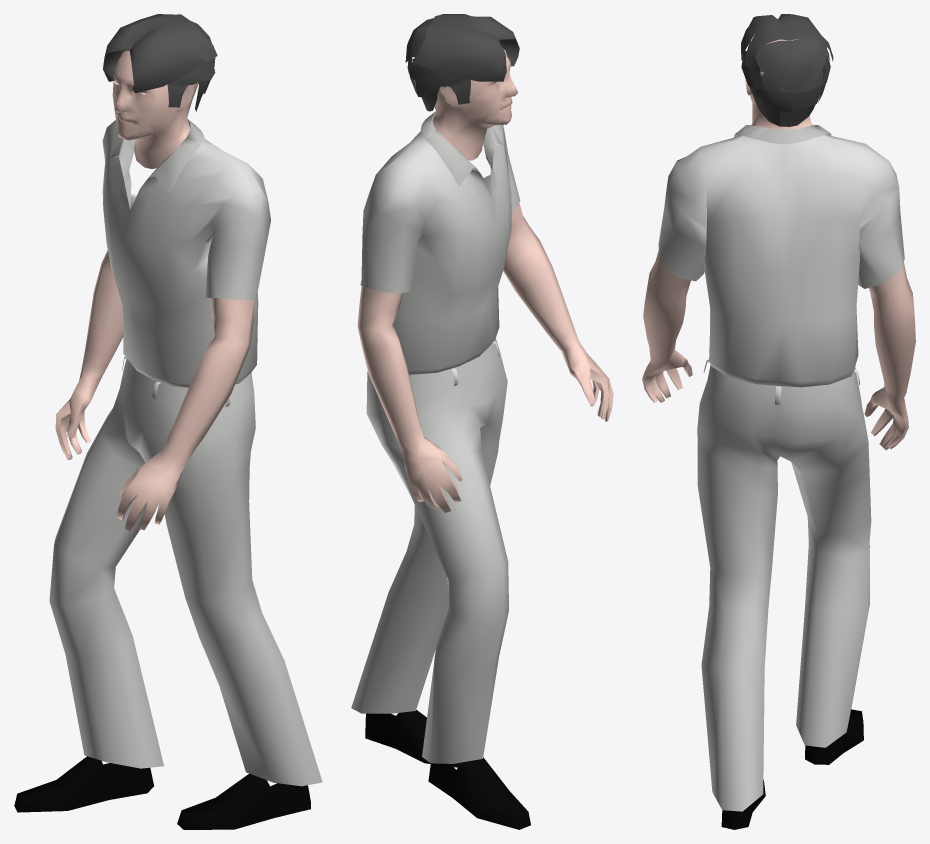
Rendered from person.glb.
3 views of the same model, side by side, from view 1: azimuth 30°, elevation 25°; view 2: azimuth 150°, elevation 25°; view 3: azimuth 270°, elevation 25° (orthographic). The views are drawn at different scales.
Visible parts, largest first — view 1: 人; view 2: 人; view 3: 人.
Part boxes in pixels (x1=…): 人: x1=14, y1=14, x2=322, y2=829; 人: x1=351, y1=14, x2=613, y2=829; 人: x1=642, y1=14, x2=915, y2=829.
Size of the model in its own units: 0.3667 by 1.14 by 0.3765.
1 material, 1 textured.
